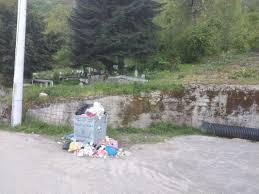Container: (75, 113, 108, 142)
Garbage: (63, 138, 119, 158), (78, 102, 104, 119)
